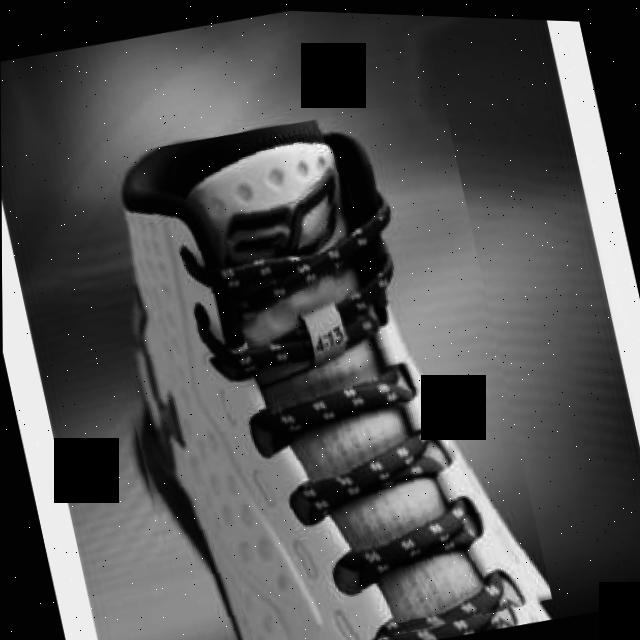shoe: (70, 82, 555, 640)
